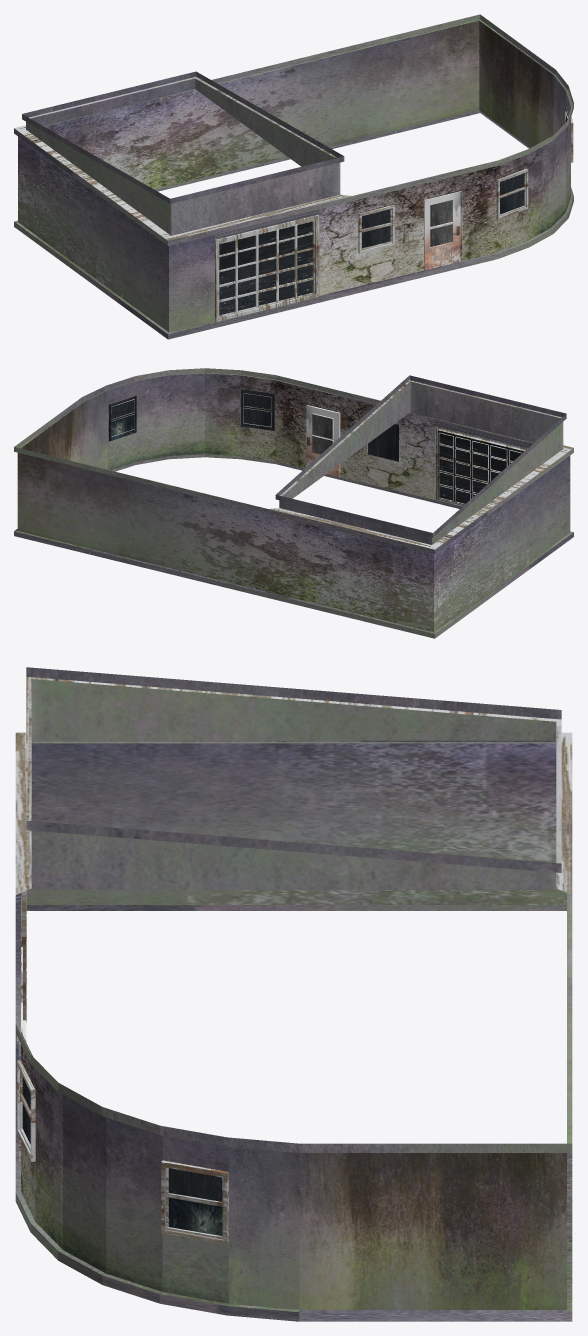
The model's file is GasStation.FBX.
The picture shows the model from 3 angles, top to bottom: view 1: azimuth 30°, elevation 25°; view 2: azimuth 150°, elevation 25°; view 3: azimuth 270°, elevation 25°; orthographic projection. The views are drawn at different scales.
Visible parts, largest first — view 1: Gas_Station; view 2: Gas_Station; view 3: Gas_Station.
Boxes of the visible parts, x1,y1,x2,y2 form: Gas_Station: (14, 14, 573, 339); Gas_Station: (14, 368, 573, 638); Gas_Station: (15, 667, 572, 1321).
Bounding box in the file's own units: 45.51 × 12.82 × 26.05.
1 material, 1 textured.
